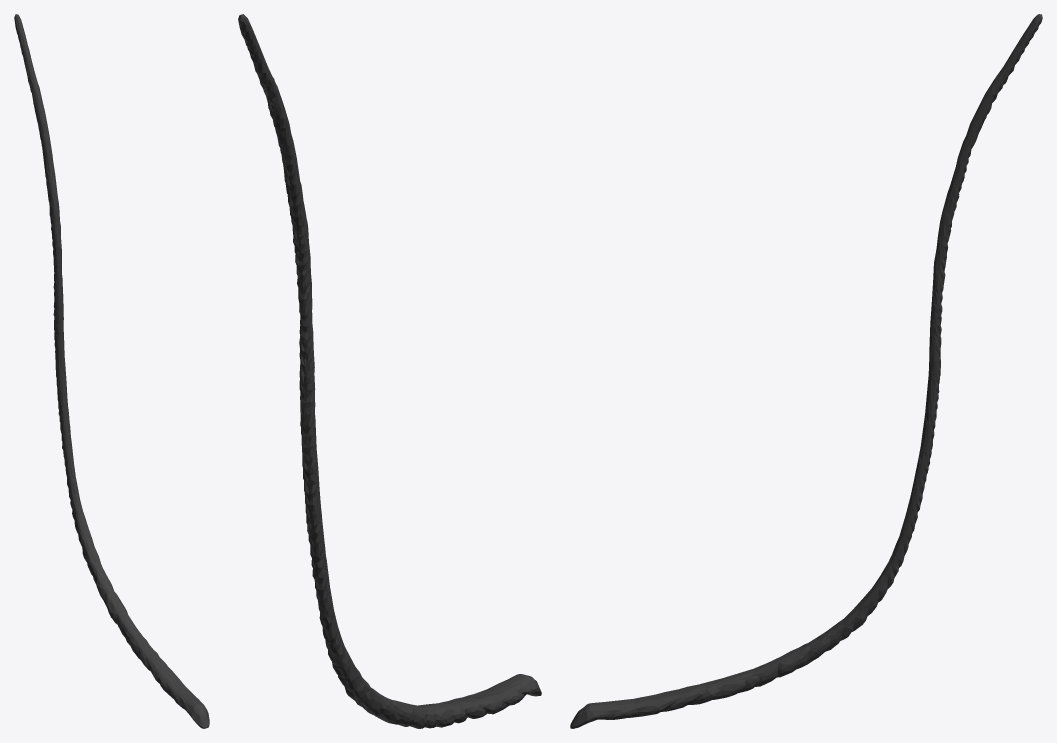
File: m_sacrocadudalis_dorsalis_med.glb
3 renders of one model, left to right at view 1: azimuth 30°, elevation 25°; view 2: azimuth 150°, elevation 25°; view 3: azimuth 270°, elevation 25°, orthographic. The views are drawn at different scales.
Parts seen in each view (by area): view 1: m_sacrocadudalis_dorsalis_med; view 2: m_sacrocadudalis_dorsalis_med; view 3: m_sacrocadudalis_dorsalis_med.
Part boxes in pixels (x1,y1,x2,y2): m_sacrocadudalis_dorsalis_med: (14, 14, 209, 728); m_sacrocadudalis_dorsalis_med: (238, 14, 541, 728); m_sacrocadudalis_dorsalis_med: (570, 14, 1042, 728).
Size of the model in its own units: 0.000387 by 0.0114 by 0.00684.
1 material, 1 textured.
